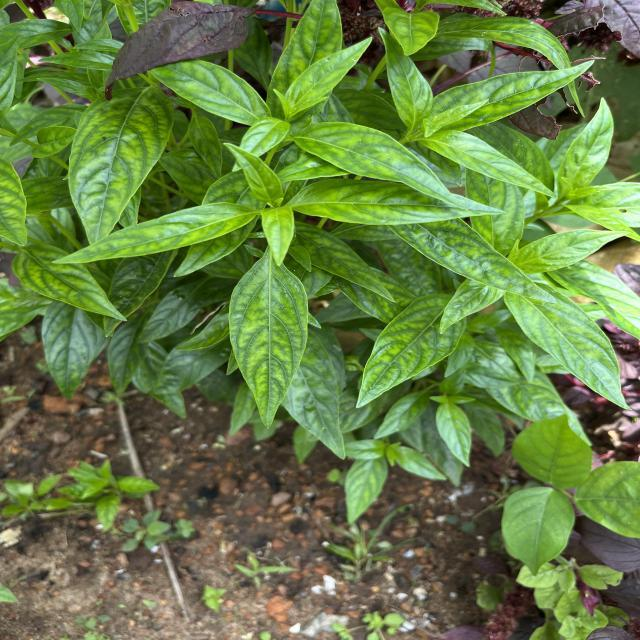Andrographis paniculata: (66, 83, 174, 244), (286, 120, 470, 213), (511, 282, 634, 412), (49, 198, 262, 268), (226, 256, 310, 432), (352, 290, 470, 410), (432, 58, 597, 136), (290, 178, 511, 228), (12, 242, 128, 326), (284, 36, 374, 116), (554, 98, 616, 190), (509, 228, 631, 274), (434, 402, 474, 470)
